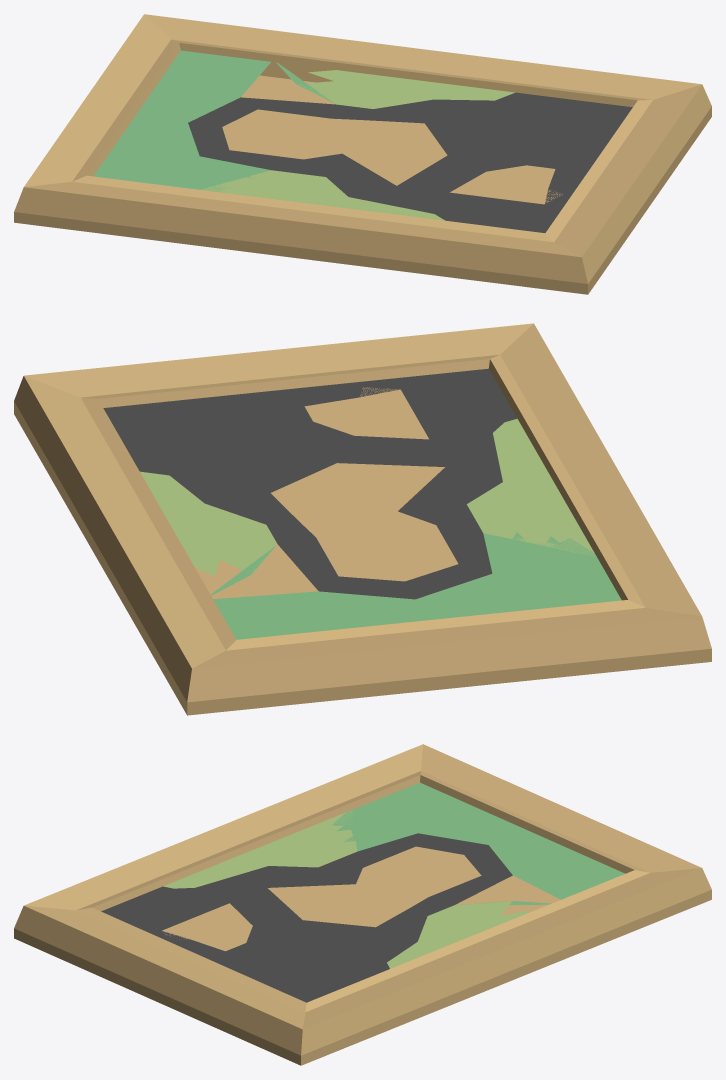
Rendered from painting.gltf.
The picture shows the model from 3 angles, top to bottom: view 1: azimuth 30°, elevation 25°; view 2: azimuth 150°, elevation 25°; view 3: azimuth 270°, elevation 25°; orthographic projection. The views are drawn at different scales.
Parts seen in each view (by area): view 1: Wall_Art_Classical_Plane; view 2: Wall_Art_Classical_Plane; view 3: Wall_Art_Classical_Plane.
Boxes of the visible parts, <box> form: Wall_Art_Classical_Plane: <box>14,14,711,294</box>; Wall_Art_Classical_Plane: <box>14,323,711,715</box>; Wall_Art_Classical_Plane: <box>14,744,711,1065</box>.
Size of the model in its own units: 0.3325 by 0.0175 by 0.335.
